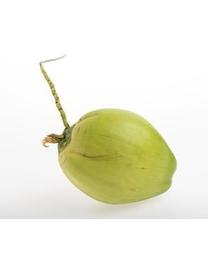coconut: (57, 107, 177, 205)
